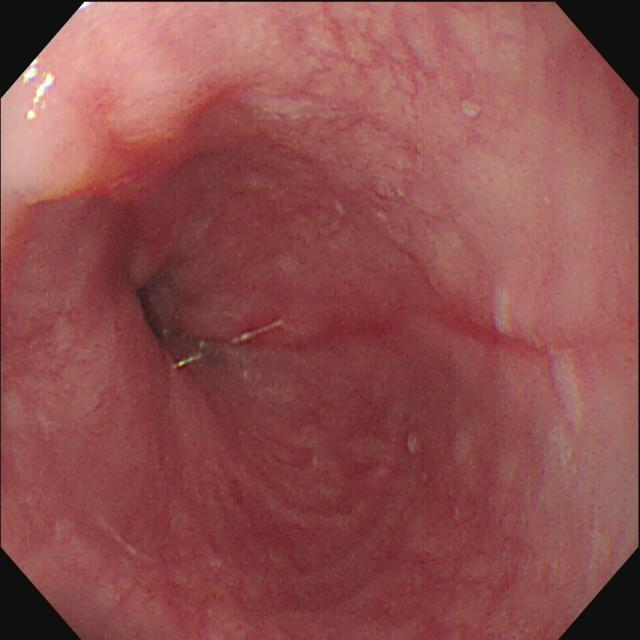A: (67, 84, 237, 211)
J: (549, 352, 586, 434), (494, 286, 513, 339)
U: (23, 55, 57, 122)
